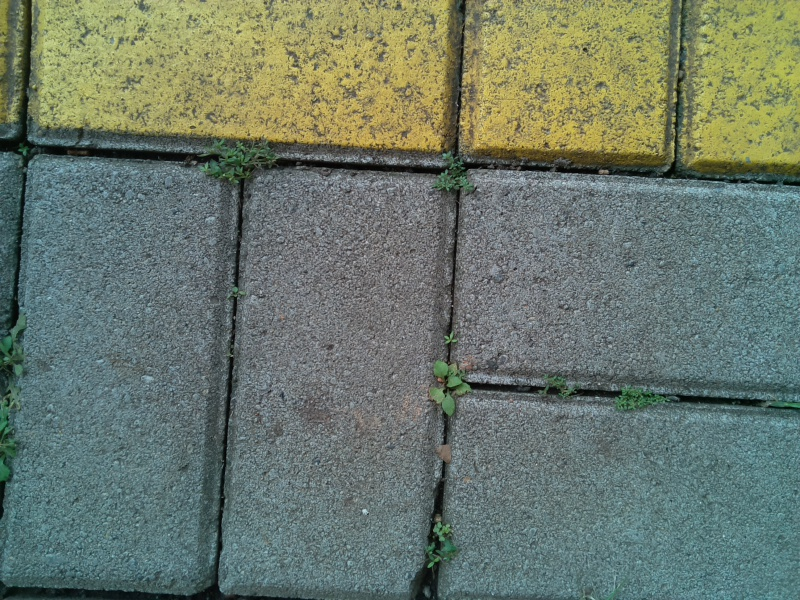Weed: (193, 135, 282, 187), (425, 355, 474, 418), (428, 147, 481, 205), (3, 308, 34, 385), (614, 383, 677, 416), (1, 397, 24, 487), (423, 520, 460, 573), (748, 389, 799, 423), (531, 370, 577, 405), (13, 138, 41, 165), (224, 282, 251, 307), (440, 329, 462, 349)
